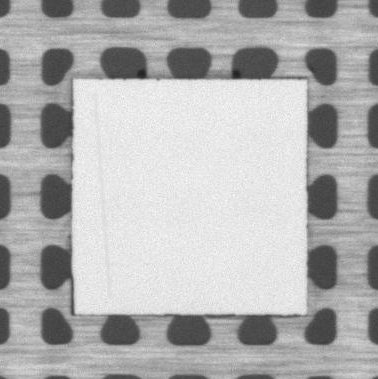DIE_CRACK: (95, 93, 110, 299)
